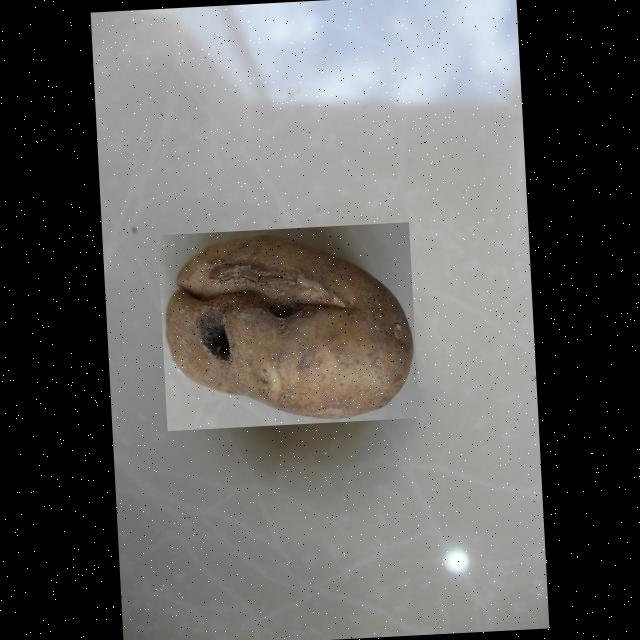Damaged potato: (158, 221, 420, 430)
